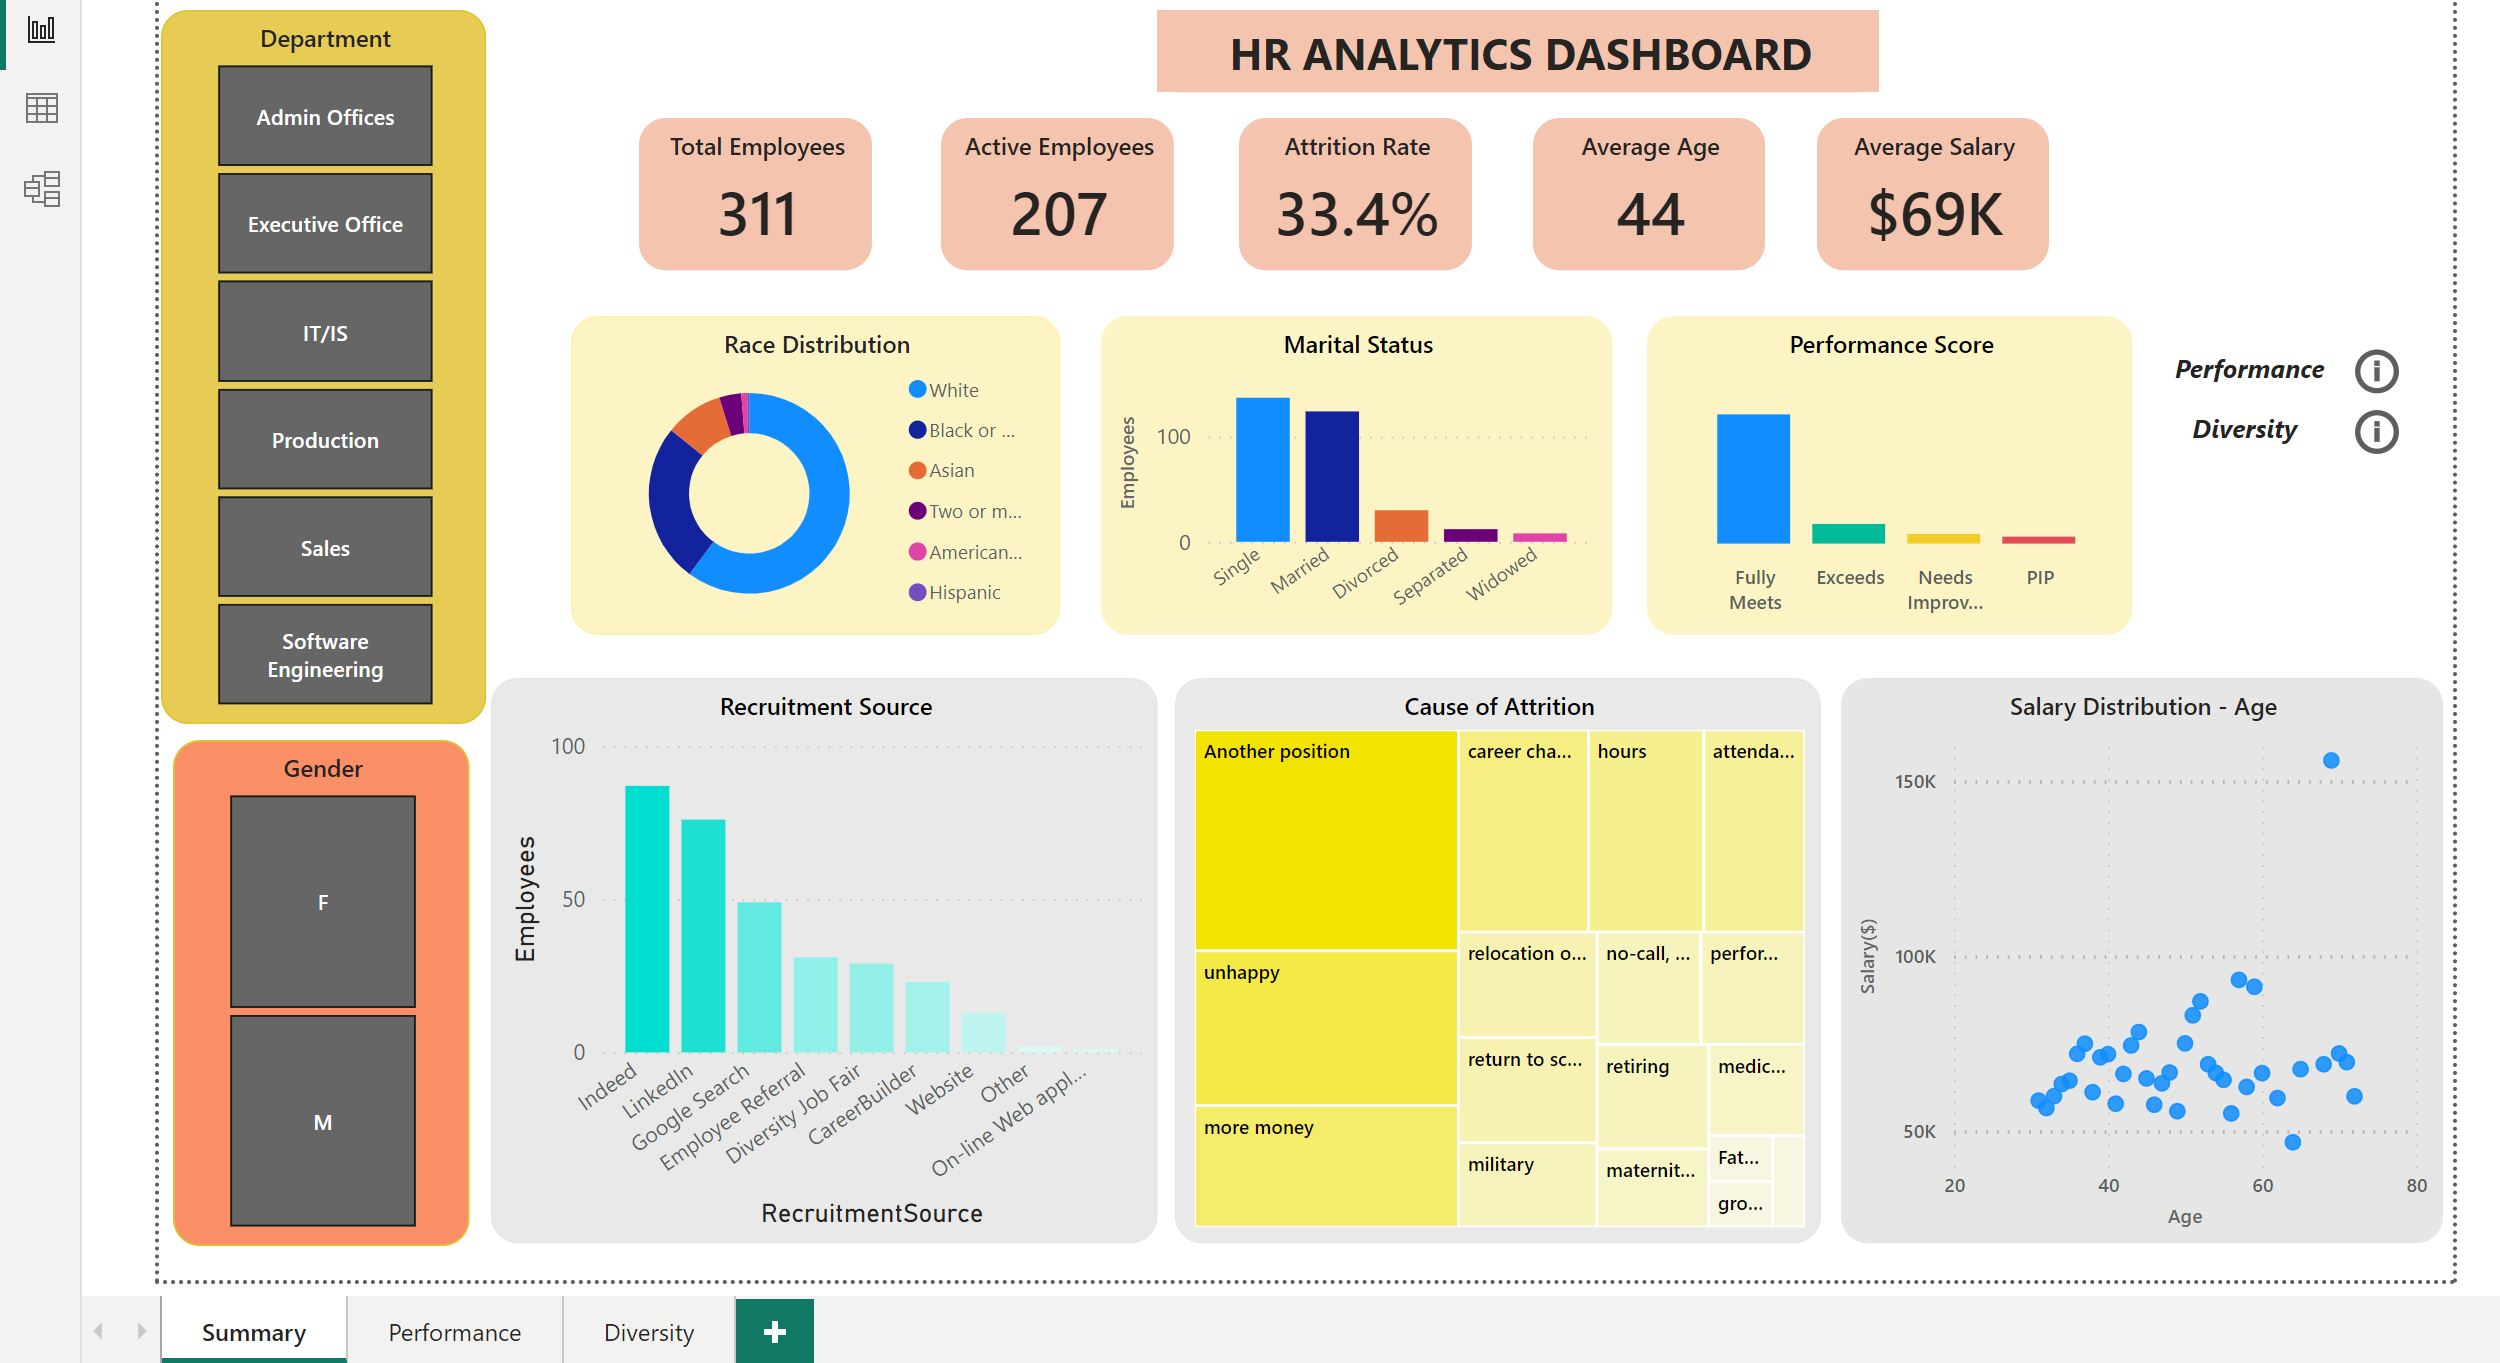

The dashboard page shown, as its layout file describes it:
{"tool":"powerbi","page":{"name":"Summary","canvas":[1280,720],"ordinal":0},"visuals":[{"type":"group","id":"g1","title":"Group 1","box":[557.3,10.6,402.2,46.1],"z":0},{"type":"shape","box":[557.3,10.6,402.2,46.1],"z":0,"group":"g2"},{"type":"textbox","box":[580.5,12.4,359.4,41.8],"z":1000,"group":"g2"},{"type":"card","title":"Total Employees","fields":{"Values":["All Measures.Total Emp"]},"box":[267.6,71.8,130.2,85.1],"z":1000},{"type":"card","title":"Active Employees","fields":{"Values":["All Measures.Active Employee Count"]},"box":[436.8,71.8,130.2,85.1],"z":2000},{"type":"card","title":"Attrition Rate","fields":{"Values":["All Measures.Attrition Rate"]},"box":[603.3,71.8,130.2,85.1],"z":3000},{"type":"card","title":"Average Age","fields":{"Values":["All Measures.Average Age"]},"box":[766.3,71.8,129.3,85.1],"z":4000},{"type":"card","title":"Average Salary","fields":{"Values":["All Measures.Average Salary"]},"box":[925.8,71.8,129.3,85.1],"z":5000},{"type":"slicer","title":"Department","fields":{"Values":["HR Data Set.Department"]},"box":[0.9,10.6,181.6,398.7],"z":6000},{"type":"slicer","title":"Gender","fields":{"Values":["HR Data Set.Sex"]},"box":[8,419,165.7,282.6],"z":8000},{"type":"clusteredColumnChart","title":"Recruitment Source","fields":{"Category":["HR Data Set.RecruitmentSource"],"Y":["All Measures.Total Emp"]},"box":[185.2,383.6,372.1,315.4],"z":9000},{"type":"donutChart","title":"Race Distribution","fields":{"Category":["HR Data Set.RaceDesc"],"Y":["All Measures.Total Emp"]},"box":[229.5,181.6,272.9,178.1],"z":10000},{"type":"treemap","title":"Cause of Attrition","fields":{"Group":["HR Data Set.TermReason"],"Values":["All Measures.Total Emp"]},"box":[567,383.6,360.6,315.4],"z":11000},{"type":"columnChart","title":" Marital Status","fields":{"Y":["All Measures.Total Emp"],"Series":["HR Data Set.MaritalDesc"],"Category":["HR Data Set.MaritalDesc"]},"box":[526.2,181.6,285.3,178.1],"z":12000},{"type":"scatterChart","title":"Salary Distribution - Age","fields":{"Y":["Avg(HR Data Set.Salary)"],"X":["HR Data Set.Current Age"]},"box":[939.1,383.6,335.8,315.4],"z":14000},{"type":"columnChart","title":"Performance Score","fields":{"Category":["HR Data Set.PerformanceScore"],"Y":["CountNonNull(HR Data Set.EmpID)"]},"box":[831,182.5,271.1,178.1],"z":15000},{"type":"group","id":"g2","title":"Group 2","box":[557.3,10.6,402.2,46.1],"z":15001,"group":"g1"},{"type":"textbox","box":[1115.4,196.7,103.7,32.8],"z":15001},{"type":"actionButton","box":[1220.8,188.7,33.7,48.7],"z":15002},{"type":"textbox","box":[1120,229.9,89.1,33.4],"z":15003},{"type":"actionButton","box":[1220.8,229.5,38.1,33.7],"z":15004}]}

Visuals, with their boxes on the page's 1280x720 design canvas (x1, y1, x2, y2). These are canvas units, not pixel positions in the 2500x1363 screenshot, which may show the page scaled, cropped or inside an application window:
"Group 1" group: bbox(557, 11, 960, 57)
shape: bbox(557, 11, 960, 57)
textbox: bbox(580, 12, 940, 54)
"Total Employees" card: bbox(268, 72, 398, 157)
"Active Employees" card: bbox(437, 72, 567, 157)
"Attrition Rate" card: bbox(603, 72, 734, 157)
"Average Age" card: bbox(766, 72, 896, 157)
"Average Salary" card: bbox(926, 72, 1055, 157)
"Department" slicer: bbox(1, 11, 182, 409)
"Gender" slicer: bbox(8, 419, 174, 702)
"Recruitment Source" clusteredColumnChart: bbox(185, 384, 557, 699)
"Race Distribution" donutChart: bbox(230, 182, 502, 360)
"Cause of Attrition" treemap: bbox(567, 384, 928, 699)
" Marital Status" columnChart: bbox(526, 182, 812, 360)
"Salary Distribution - Age" scatterChart: bbox(939, 384, 1275, 699)
"Performance Score" columnChart: bbox(831, 182, 1102, 361)
"Group 2" group: bbox(557, 11, 960, 57)
textbox: bbox(1115, 197, 1219, 230)
actionButton: bbox(1221, 189, 1254, 237)
textbox: bbox(1120, 230, 1209, 263)
actionButton: bbox(1221, 230, 1259, 263)
